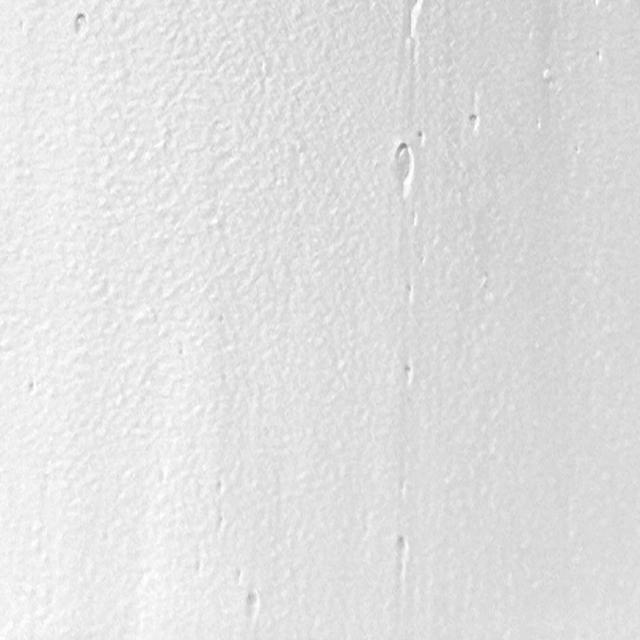pin holes: (386, 143, 416, 194), (390, 534, 410, 566), (69, 10, 90, 38), (243, 593, 263, 622), (402, 361, 419, 388), (26, 378, 40, 402), (229, 567, 244, 589), (214, 479, 230, 498), (467, 114, 481, 135), (403, 284, 416, 306), (408, 210, 420, 230), (592, 48, 605, 66), (414, 129, 426, 147), (542, 64, 554, 82)
